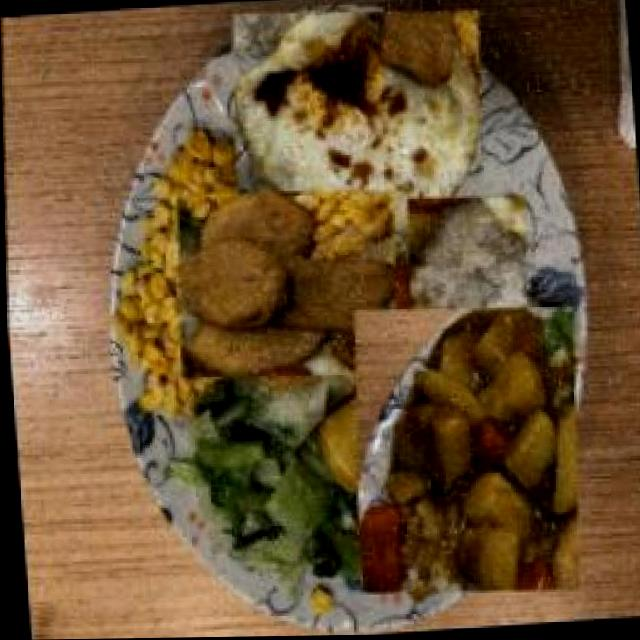chicken_nuggets: (176, 173, 400, 399)
curry: (335, 295, 591, 606)
fried_eggs: (218, 0, 496, 263)
rice: (396, 194, 539, 335)
